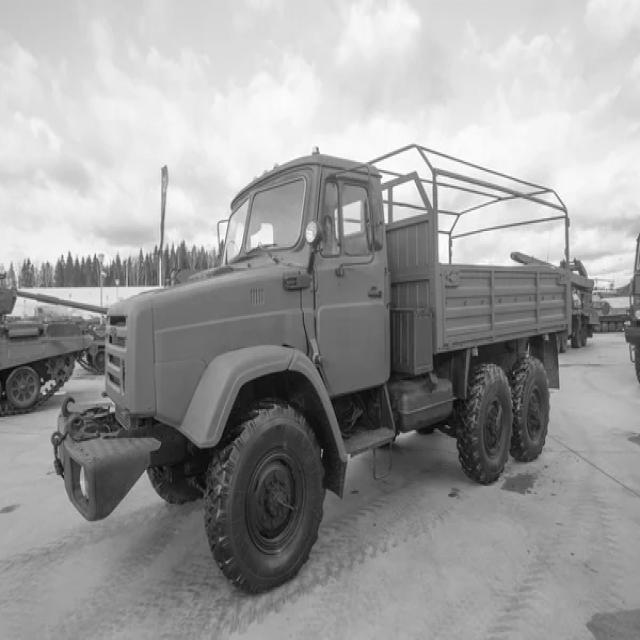Tank: (0, 278, 104, 419)
Truck: (45, 136, 577, 592)
